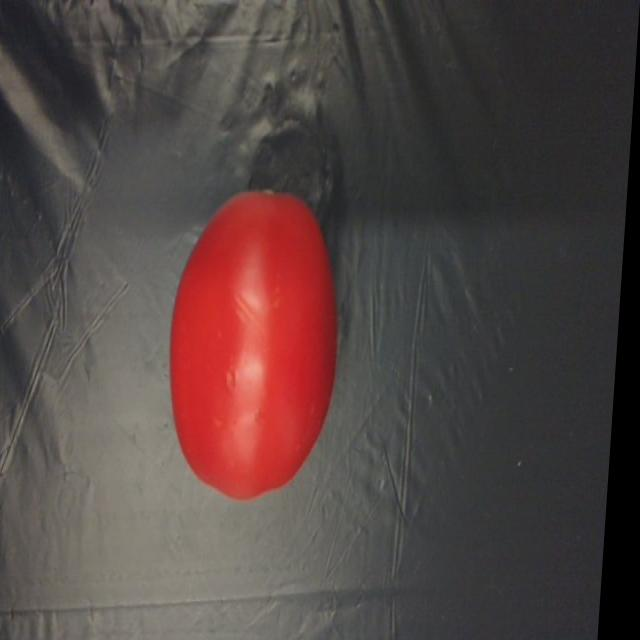kirmizi: (163, 177, 369, 514)
